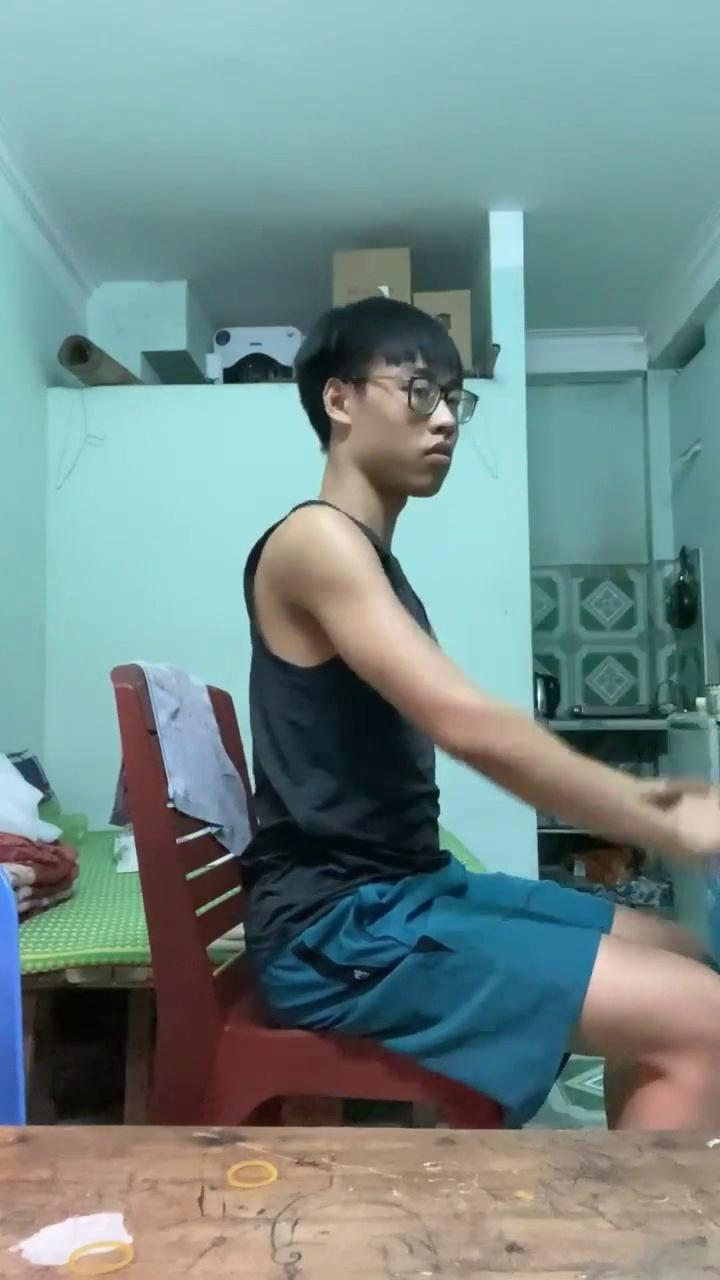GoodPosture: (241, 291, 719, 1130)
